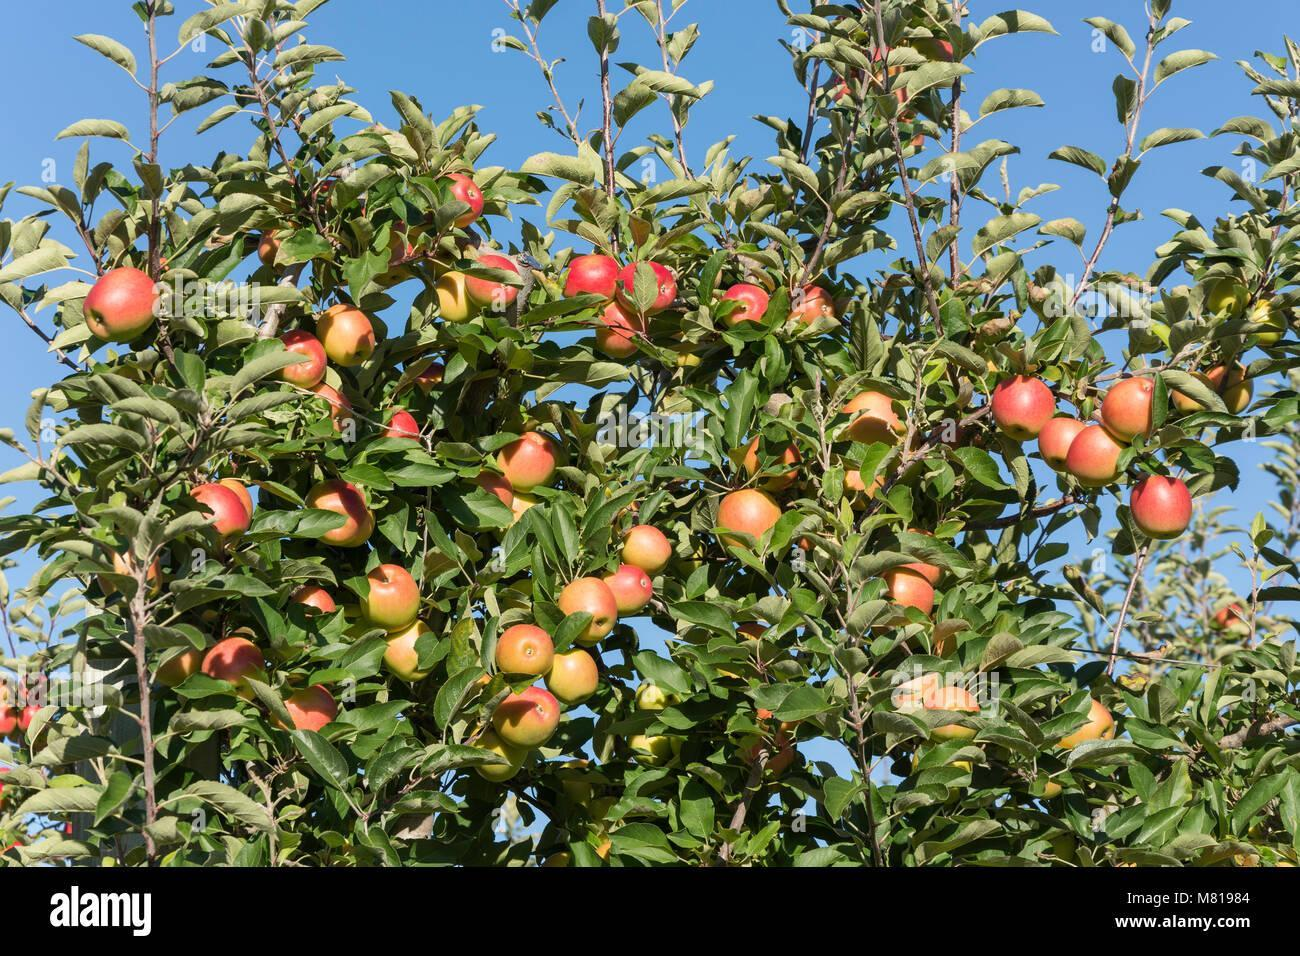apple: (85, 267, 159, 340), (495, 683, 561, 752), (552, 574, 618, 642), (989, 374, 1056, 439), (434, 267, 512, 320), (1131, 473, 1193, 540), (839, 387, 905, 448), (360, 563, 419, 629), (1099, 375, 1155, 443), (490, 432, 554, 491), (314, 480, 371, 545), (717, 489, 786, 542), (190, 479, 253, 537), (319, 305, 375, 368), (1063, 423, 1122, 482), (494, 622, 553, 678), (618, 259, 678, 314), (1036, 416, 1094, 471), (200, 637, 264, 683), (472, 732, 532, 781), (540, 648, 599, 698), (278, 329, 326, 388), (620, 524, 671, 575), (713, 283, 769, 329), (381, 623, 426, 679), (562, 252, 619, 297), (602, 565, 651, 615), (283, 686, 336, 732), (306, 381, 355, 425), (784, 284, 833, 324)
